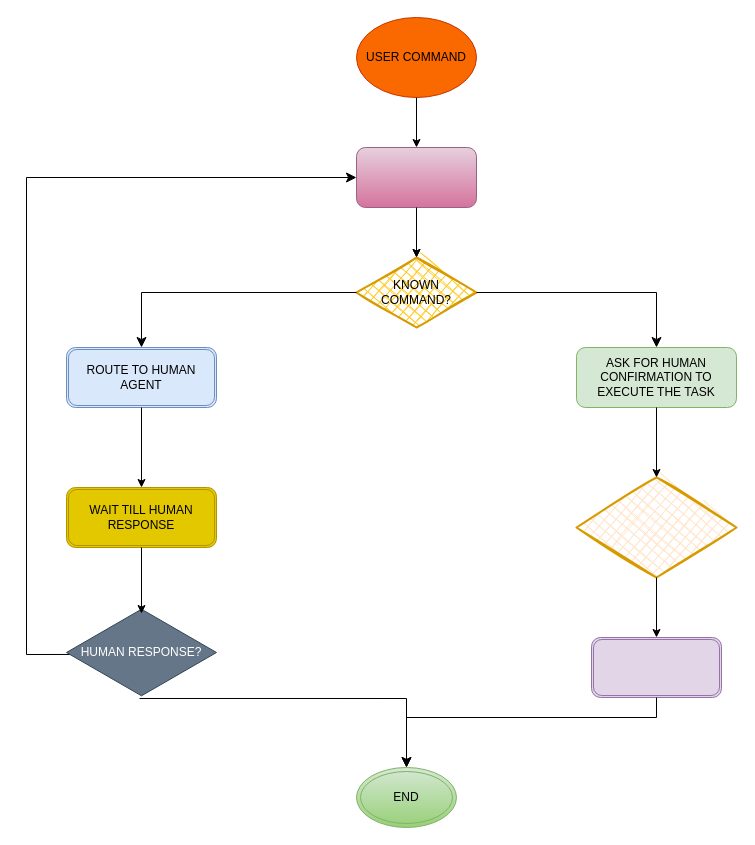
Image size: 755x845. Some labels were removed from this diagram. Here are the shapes that lost their labels. From the top down, the box of each, then its label:
(356, 146, 476, 208): AI ANALYZES THE COMMAND
(575, 476, 737, 578): HUMAN CONFIRMATION?
(590, 636, 722, 698): PROCEED AS PER THE COMMAND
